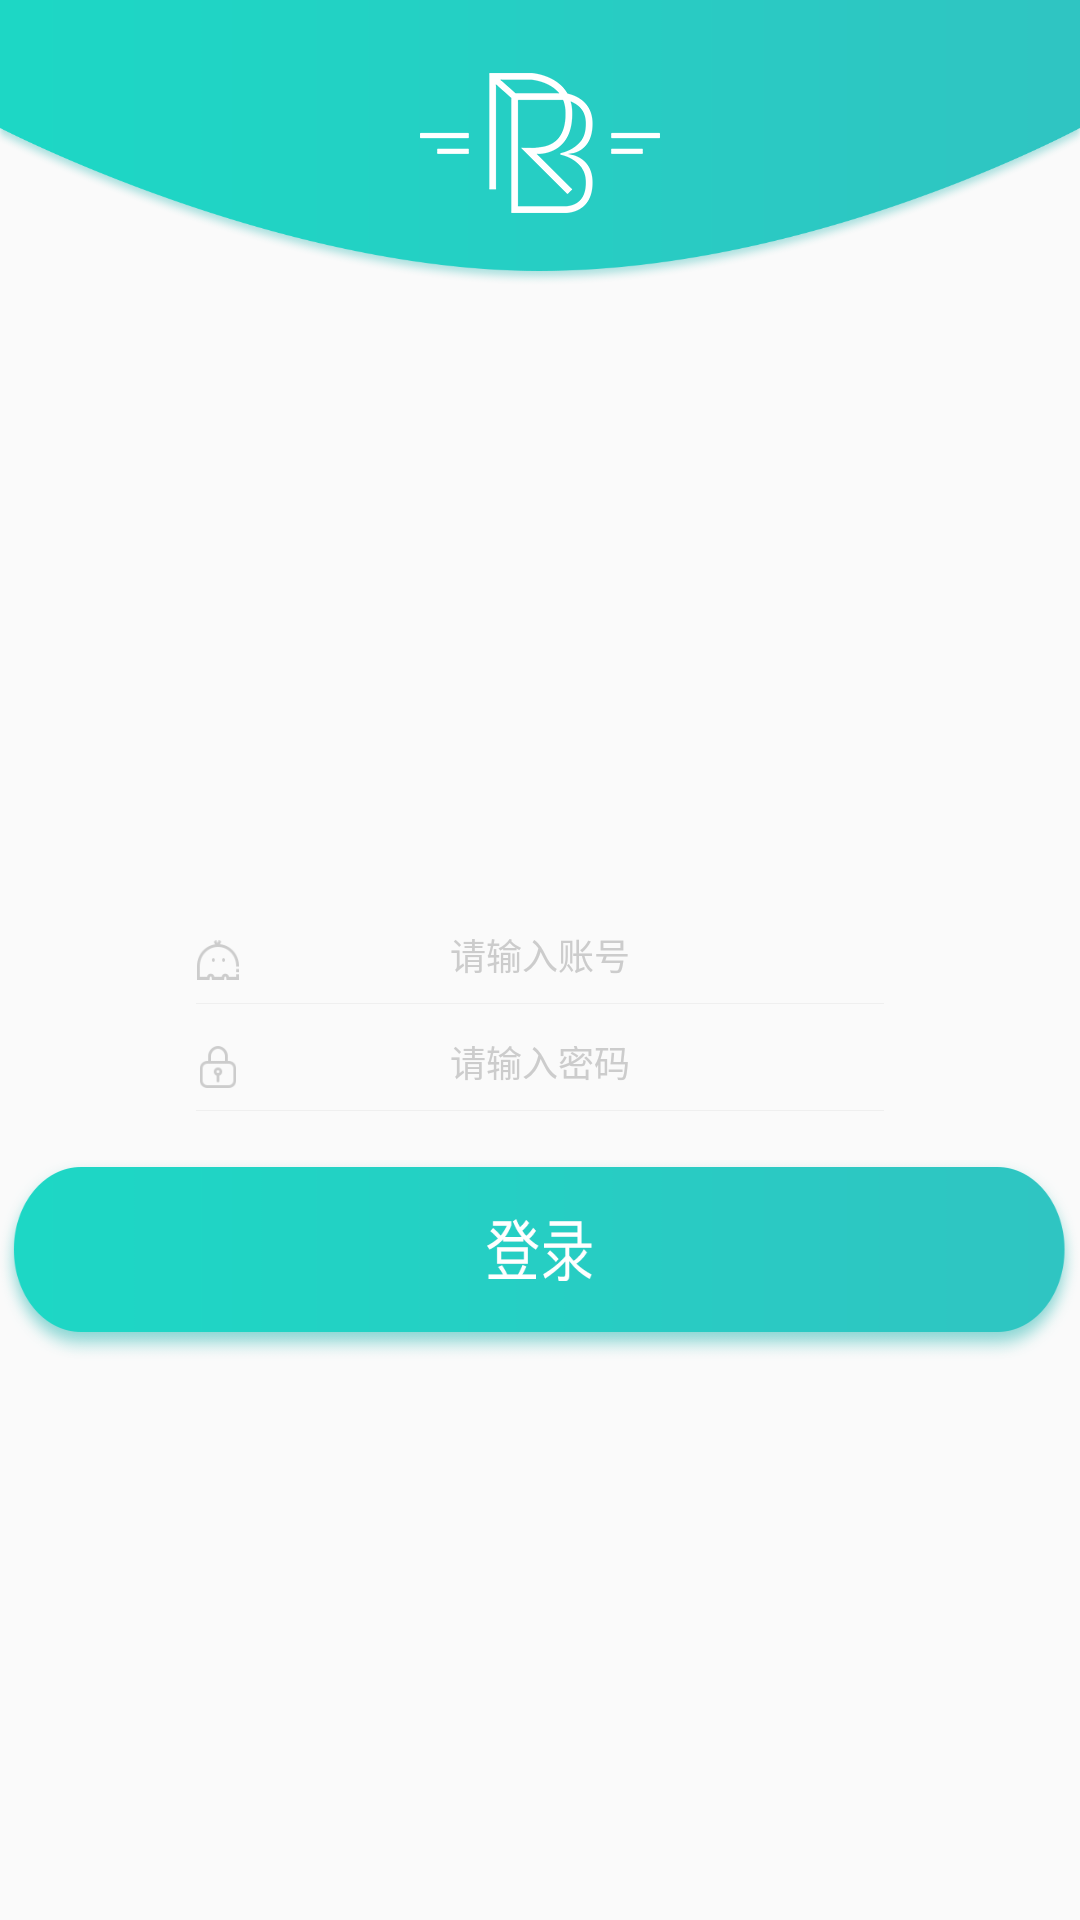

Screen size 1080 x 1920. Icon name, then its center in pixels as (x,y):
password: (218,1067)
user: (218,960)
